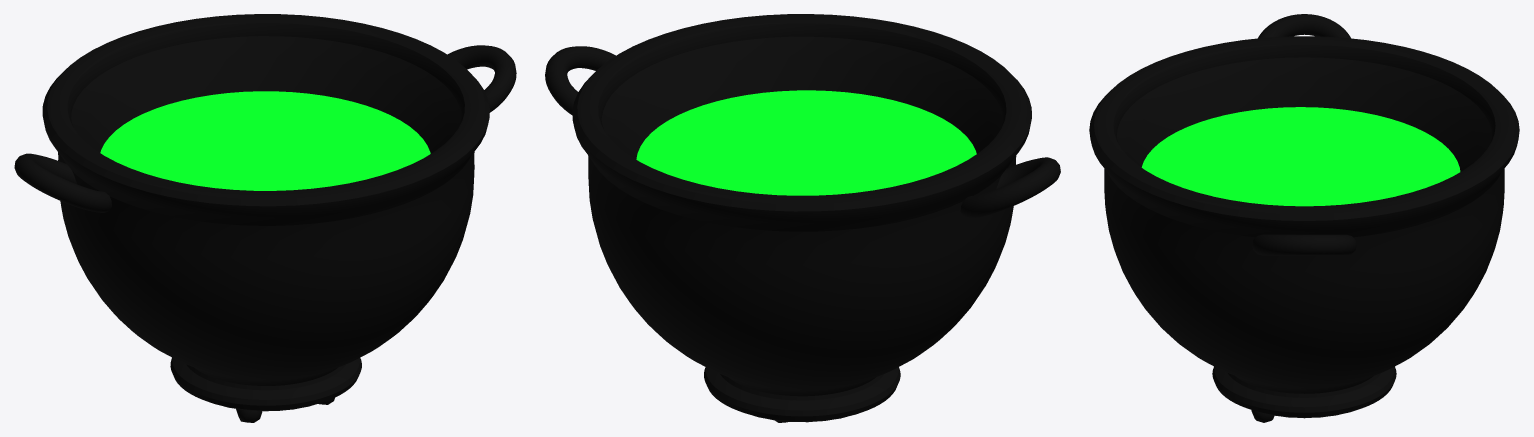
Rendered from Caldero.fbx.
The picture shows the model from 3 angles, left to right: view 1: azimuth 30°, elevation 25°; view 2: azimuth 150°, elevation 25°; view 3: azimuth 270°, elevation 25°; orthographic projection. The views are drawn at different scales.
Parts seen in each view (by area): view 1: Sphere, Circle, Torus.001, Torus; view 2: Sphere, Circle, Torus.001, Torus; view 3: Sphere, Circle, Torus, Torus.001.
Part boxes in pixels (left/top/right/bottom): Sphere: left=42, top=14, right=489, bottom=411; Circle: left=100, top=91, right=430, bottom=190; Torus.001: left=14, top=153, right=111, bottom=212; Torus: left=447, top=45, right=516, bottom=112; Sphere: left=572, top=14, right=1031, bottom=422; Circle: left=636, top=90, right=976, bottom=195; Torus.001: left=960, top=157, right=1060, bottom=218; Torus: left=545, top=46, right=615, bottom=115; Sphere: left=1089, top=36, right=1519, bottom=418; Circle: left=1141, top=107, right=1460, bottom=206; Torus: left=1252, top=234, right=1356, bottom=255; Torus.001: left=1258, top=14, right=1350, bottom=38.
Bounding box in the file's own units: 266 × 153 × 212.
